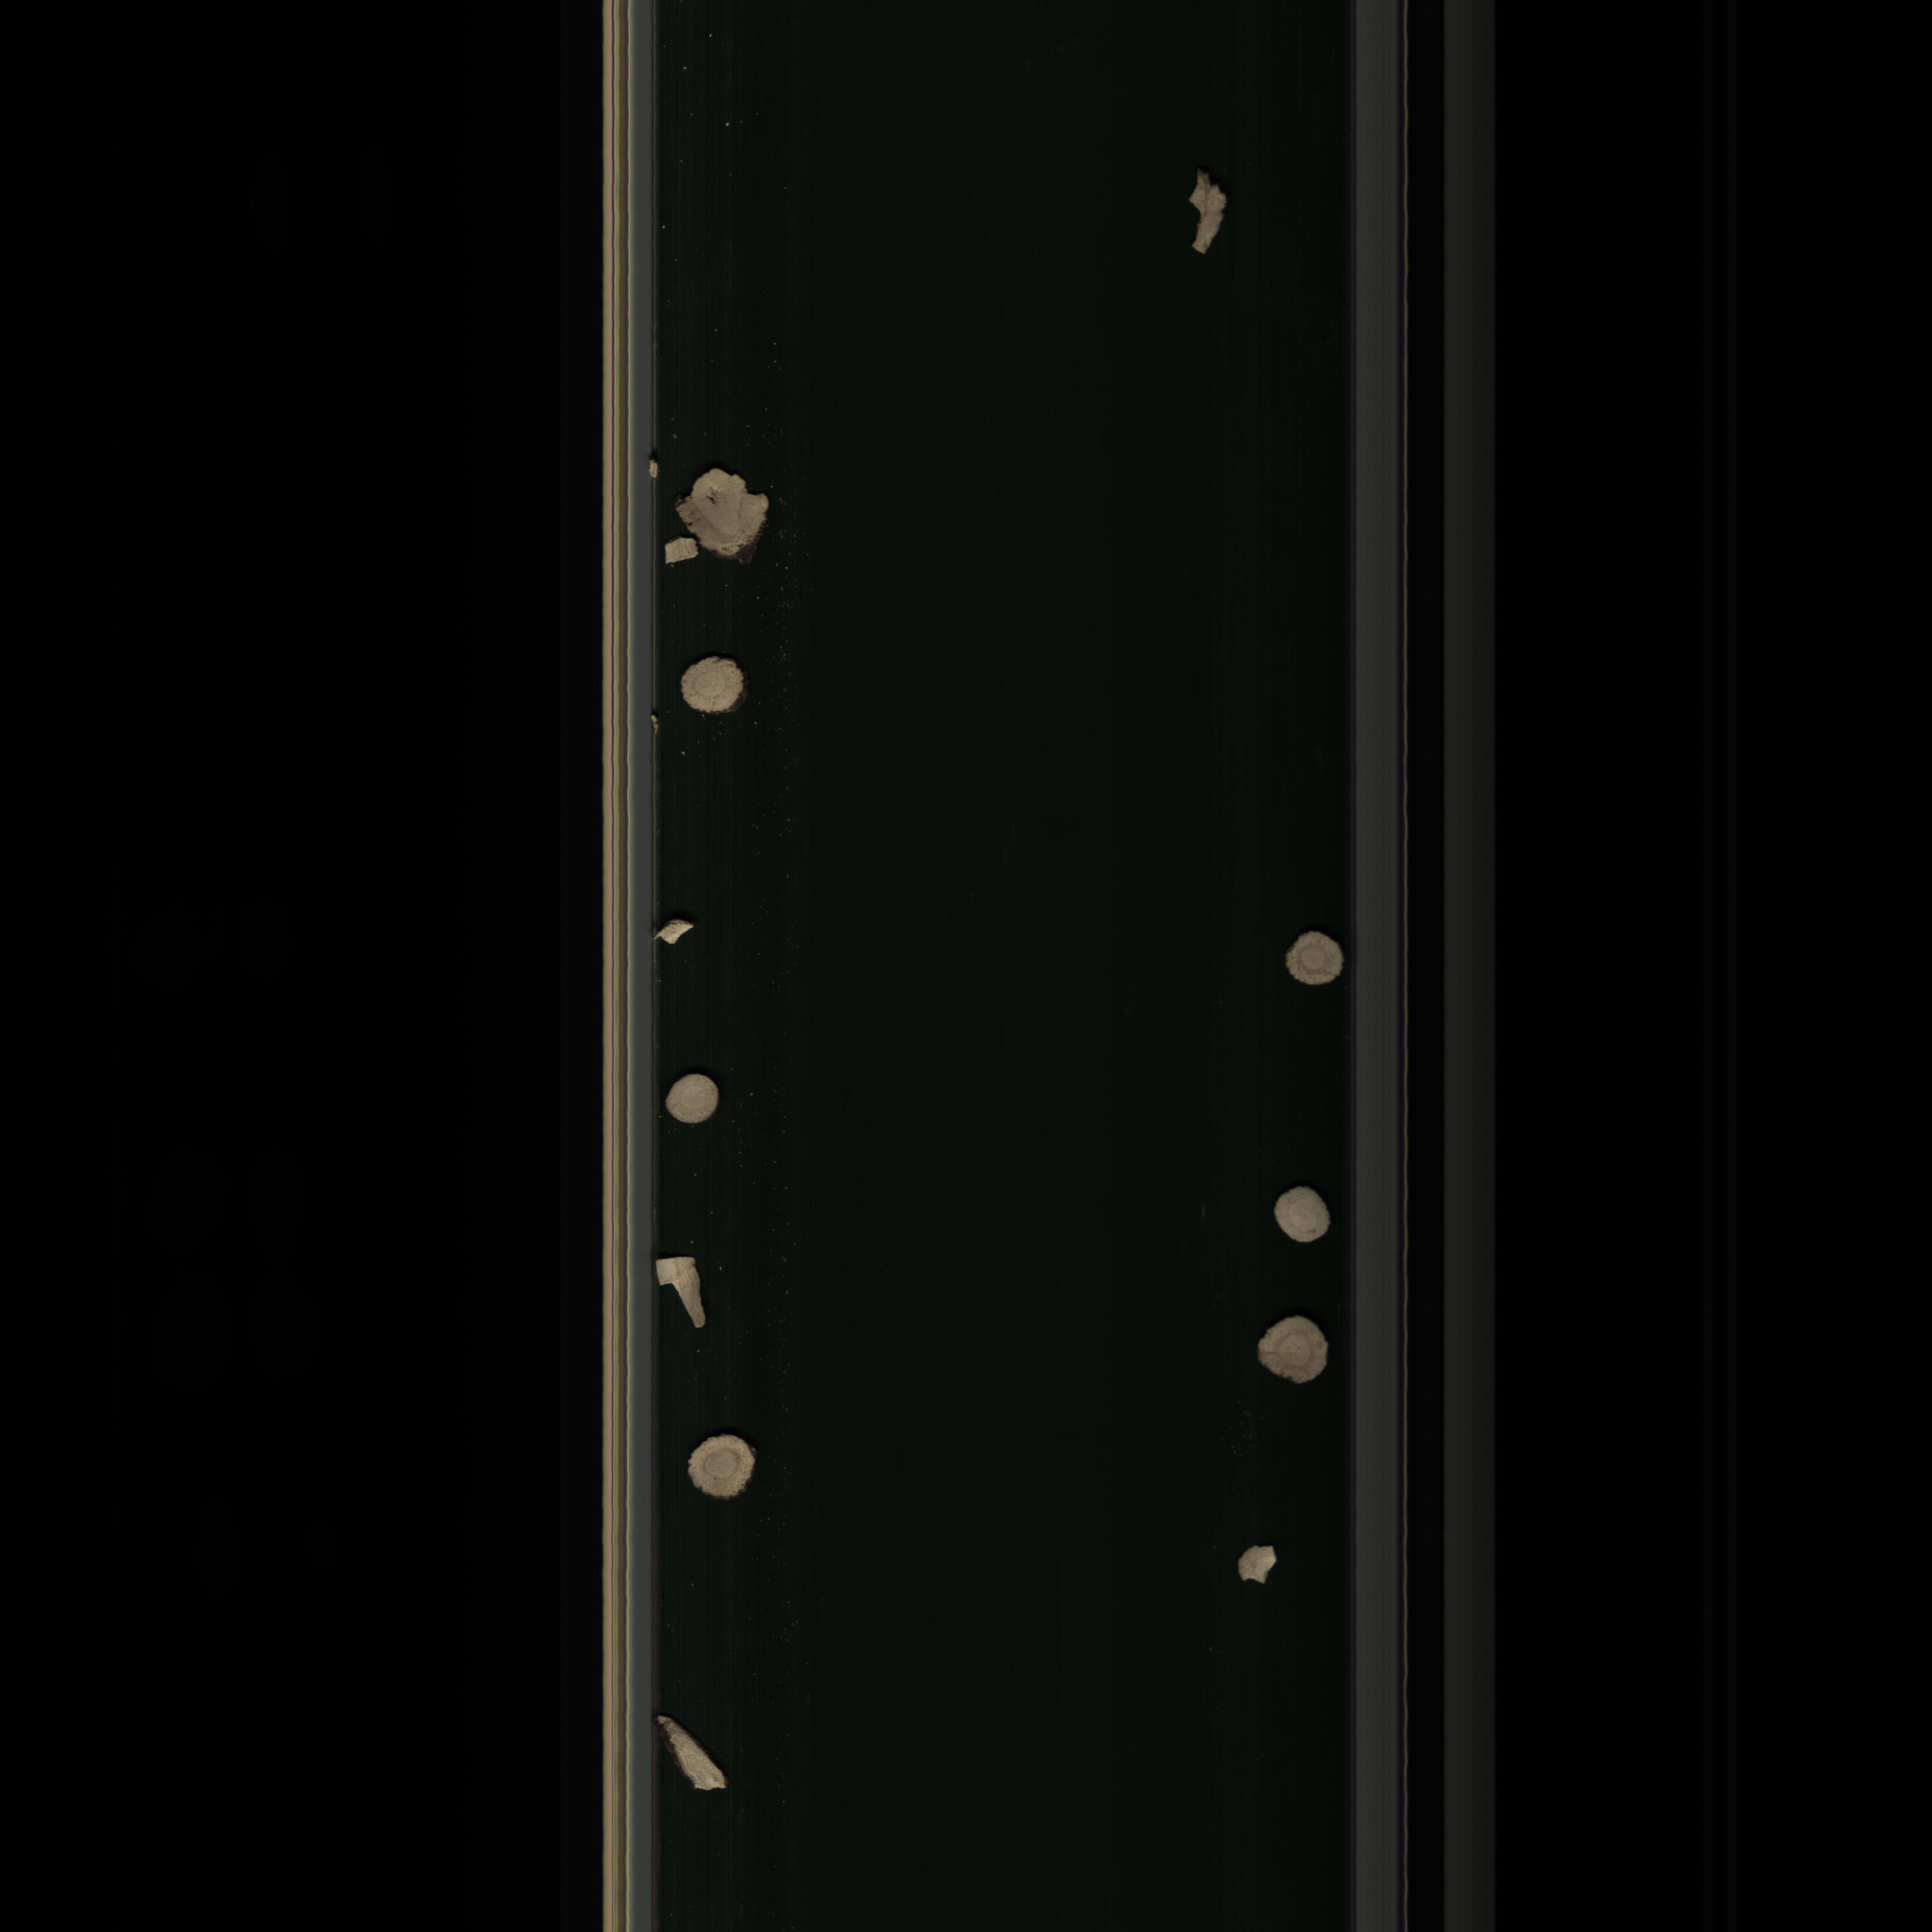bark: (1182, 165, 1237, 272)
debris: (663, 464, 778, 571), (649, 1253, 720, 1336), (1233, 1536, 1279, 1591), (649, 920, 697, 947)
distortion: (651, 1709, 738, 1812)
